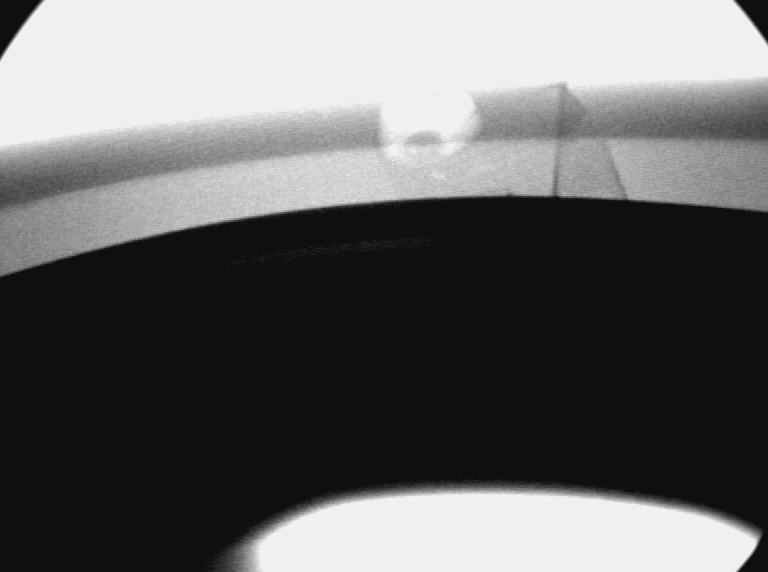defect: (430, 165, 451, 185)
